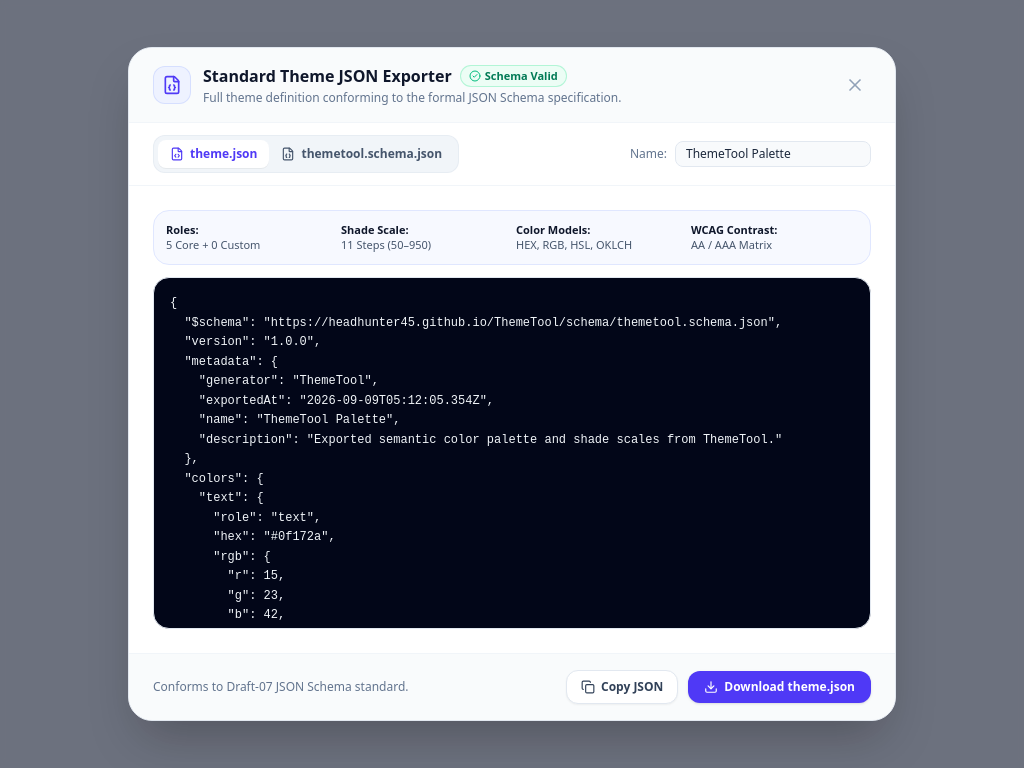
Test: ExportThemeJsonModal (TT-025) › handles copying JSON to clipboard
The width and height of the screenshot is (1024, 768).
Click the button with aria-label "Copy Theme JSON". click: (622, 687)
box: [566,670,678,704]
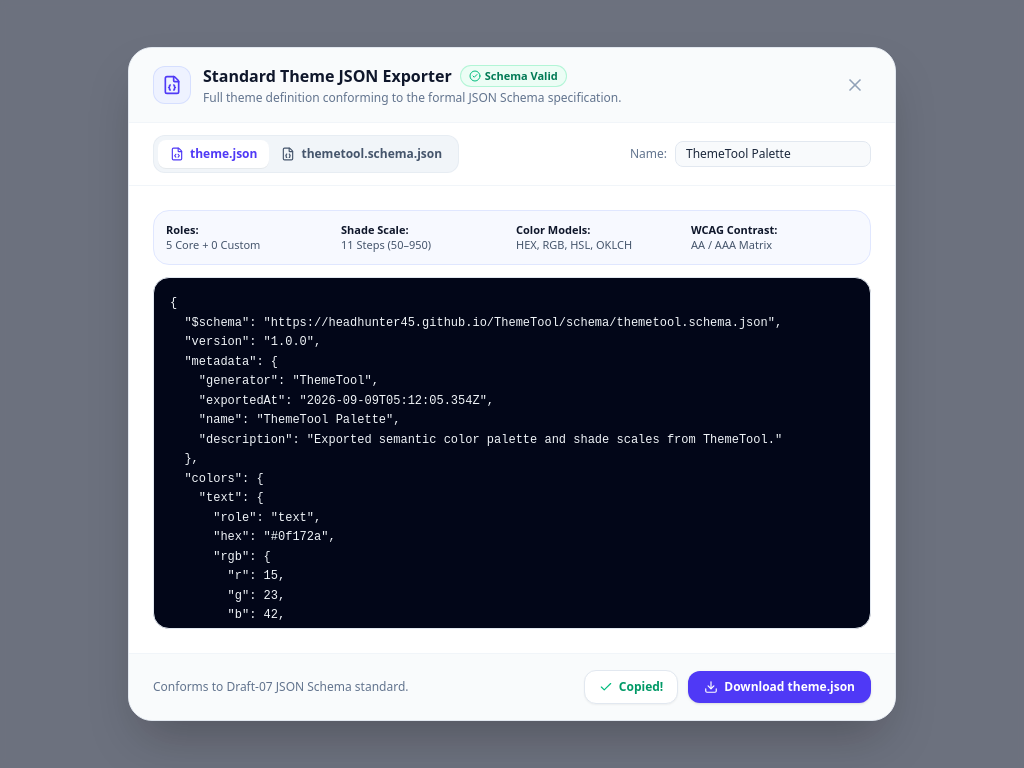
Expected: the text "Copied!" is shown, [619,679,663,695]
